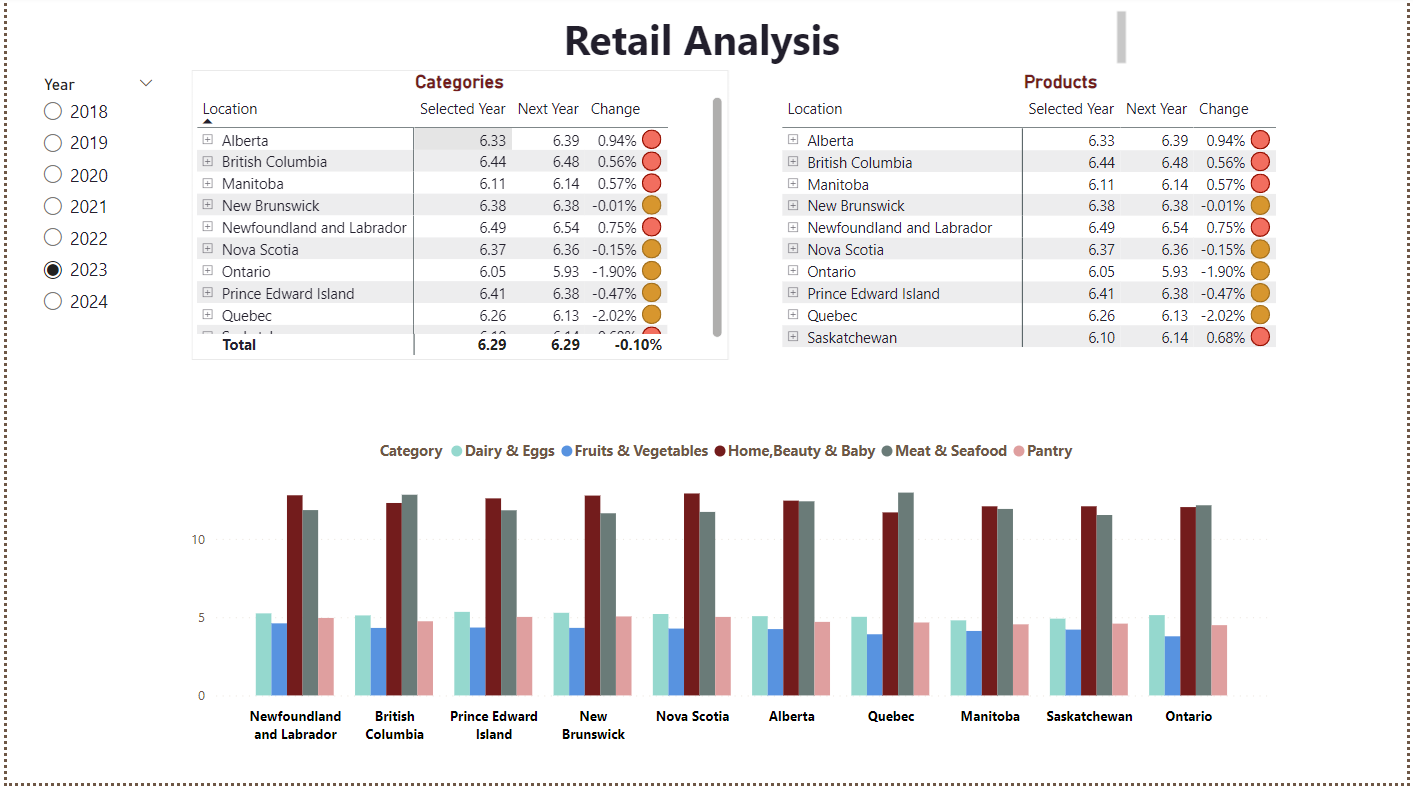

What the dashboard file says about the page in this screenshot:
{"tool":"powerbi","page":{"name":"Dynamic","canvas":[1280,720],"ordinal":6},"visuals":[{"type":"tableEx","fields":{"Values":["category.Category","dataset.Change on selection","dataset.Change on selection 2","dataset.percent Change on selection"]},"box":[222.7,68.1,517.4,208.1],"z":0},{"type":"slicer","fields":{"Values":["Table.Year table"]},"box":[20.4,68.1,103.1,233.4],"z":1000},{"type":"pivotTable","fields":{"Rows":["Locations.Location","Products.Products_Name"],"Values":["dataset.Change on selection","dataset.Change on selection 2","dataset.percent Change on selection"]},"box":[222.7,290.8,510.6,274.3],"z":2000}]}

Visuals, with their boxes in screenshot pixels (x1, y1, x2, y2), scaled from the page's 1280x720 canvas onto the 1413x786 screenshot:
tableEx - category.Category x dataset.Change on selection: left=246, top=74, right=817, bottom=302
slicer - Table.Year table: left=23, top=74, right=136, bottom=329
pivotTable - Locations.Location x Products.Products_Name: left=246, top=317, right=809, bottom=617
